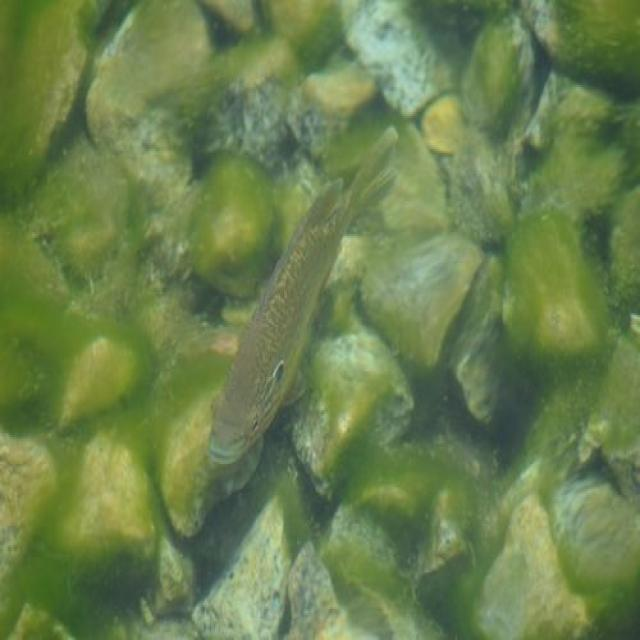Gunes Levregi: (207, 121, 402, 476)
